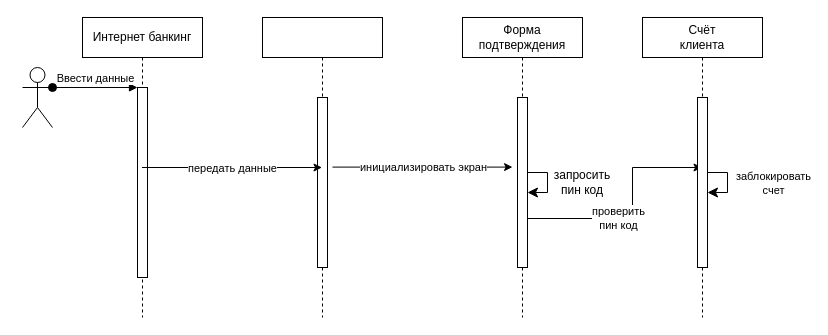
Some shapes in this 828 by 335 pixel diagram are drawn without their labels. The shapes that lost their labels are listed below. From the top down, each one's box as (x1, y1, x2, y2) in pixels, then its label:
(22, 66, 52, 128): Клиент
(262, 16, 382, 318): Панель управления счётом
